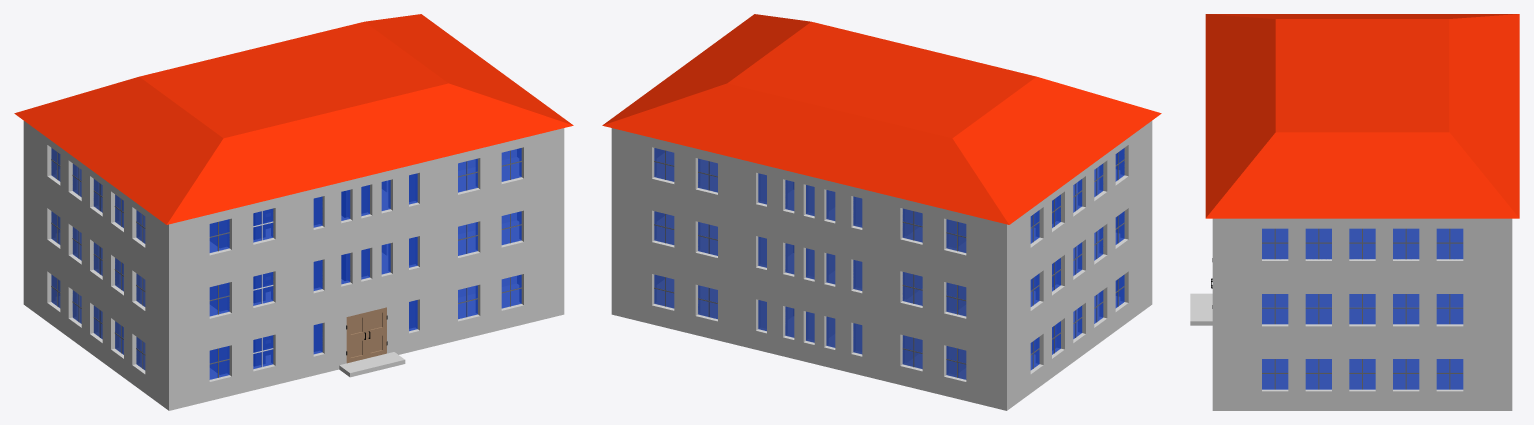
File: PilotBuilding_Office2.fbx
The picture shows the model from 3 angles, left to right: view 1: azimuth 30°, elevation 25°; view 2: azimuth 150°, elevation 25°; view 3: azimuth 270°, elevation 25°; orthographic projection. The views are drawn at different scales.
Visible parts, largest first — view 1: Roof, NorthWall, NorthWall_2, NorthWall_3, EastWall_2, EastWall_3, EastWall, Floor3, Floor2, Floor1, OuterDoorRight_2, OuterDoor Left_3 (+14 smaller); view 2: Roof, SouthWall, SouthWall_3, SouthWall_2, EastWall_2, EastWall_3, EastWall, Floor1, Floor2, Floor3, InnerWalls_2, InnerWalls_11 (+9 smaller); view 3: Roof, WestWall, WestWall_2, WestWall_3, Floor1, Floor3, Floor2, Window_34, Window_44, Window_26, Window_28, Window_32 (+6 smaller).
Part boxes in pixels (box(x1,y1,x2,y2)): Roof: box(14, 14, 573, 224); NorthWall: box(169, 128, 564, 279); NorthWall_2: box(169, 188, 564, 343); NorthWall_3: box(169, 251, 564, 406); EastWall_2: box(23, 178, 168, 342); EastWall_3: box(23, 241, 168, 406); EastWall: box(23, 121, 168, 279); Floor3: box(23, 157, 564, 284); Floor2: box(23, 220, 564, 347); Floor1: box(23, 284, 564, 410); OuterDoorRight_2: box(366, 307, 386, 358); OuterDoor Left_3: box(346, 312, 366, 363); Roof: box(602, 14, 1161, 224); SouthWall: box(611, 128, 1006, 279); SouthWall_3: box(611, 251, 1006, 406); SouthWall_2: box(611, 188, 1006, 343); EastWall_2: box(1007, 178, 1152, 342); EastWall_3: box(1007, 241, 1152, 406); EastWall: box(1007, 121, 1152, 279); Floor1: box(611, 278, 1152, 410); Floor2: box(611, 214, 1152, 347); Floor3: box(611, 151, 1152, 284); InnerWalls_2: box(761, 174, 1056, 247); InnerWalls_11: box(761, 237, 1056, 311); Roof: box(1205, 14, 1519, 218); WestWall: box(1212, 218, 1512, 276); WestWall_2: box(1212, 280, 1512, 341); WestWall_3: box(1212, 346, 1512, 406); Floor1: box(1212, 359, 1512, 410); Floor3: box(1212, 229, 1512, 280); Floor2: box(1212, 294, 1512, 345); Window_34: box(1436, 294, 1463, 324); Window_44: box(1436, 359, 1463, 389); Window_26: box(1262, 294, 1288, 324); Window_28: box(1305, 294, 1331, 324); Window_32: box(1393, 294, 1419, 324).
Bounding box in the file's own units: 20.2 × 10.87 × 13.73.
